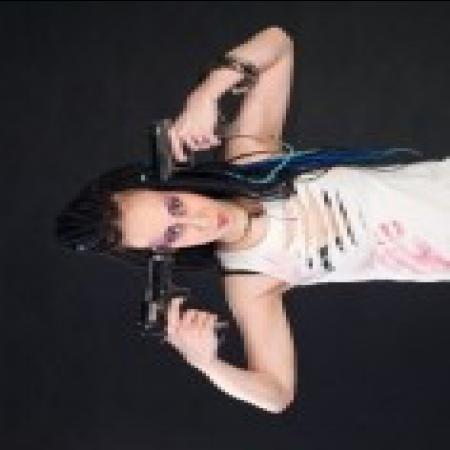Pistol: (134, 250, 233, 354), (141, 118, 221, 193)
